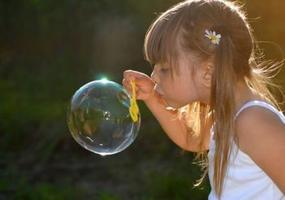person: (124, 1, 285, 199)
